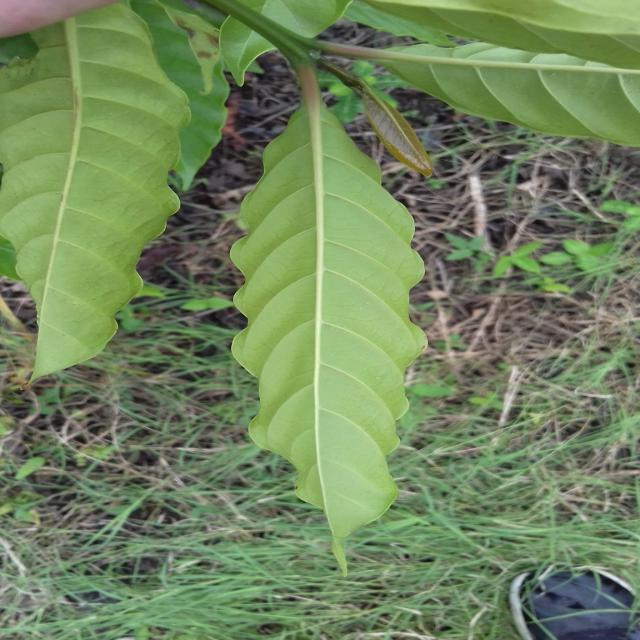Sanas: (231, 70, 427, 564)
